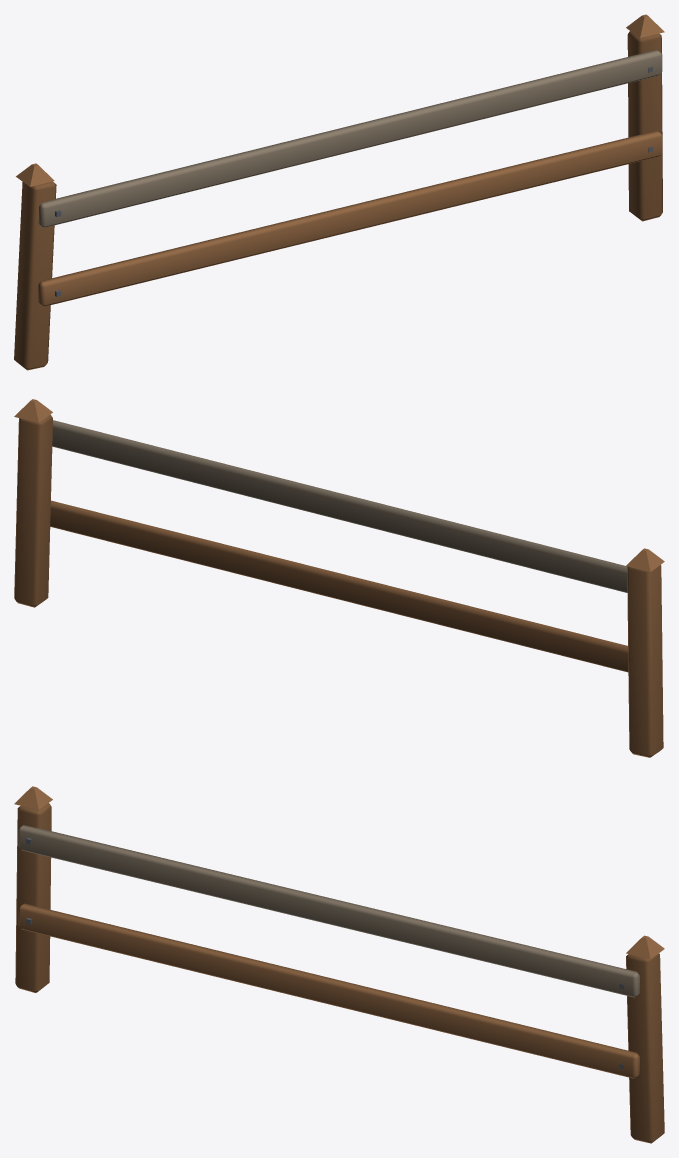
File: prop.fence_wood.glb
3 views of the same model, one above another, from view 1: azimuth 30°, elevation 25°; view 2: azimuth 150°, elevation 25°; view 3: azimuth 330°, elevation 25° (orthographic).
Visible parts, largest first — view 1: fence_wood, end_post; view 2: fence_wood, end_post; view 3: fence_wood, end_post.
Part boxes in pixels (x1,y1,x2,y2): fence_wood: [14, 50, 662, 370]; end_post: [626, 14, 664, 221]; fence_wood: [50, 420, 664, 757]; end_post: [14, 399, 52, 607]; fence_wood: [14, 786, 639, 1078]; end_post: [626, 935, 664, 1143].
Bounding box in the file's own units: 4.19 × 1.26 × 0.2628.
